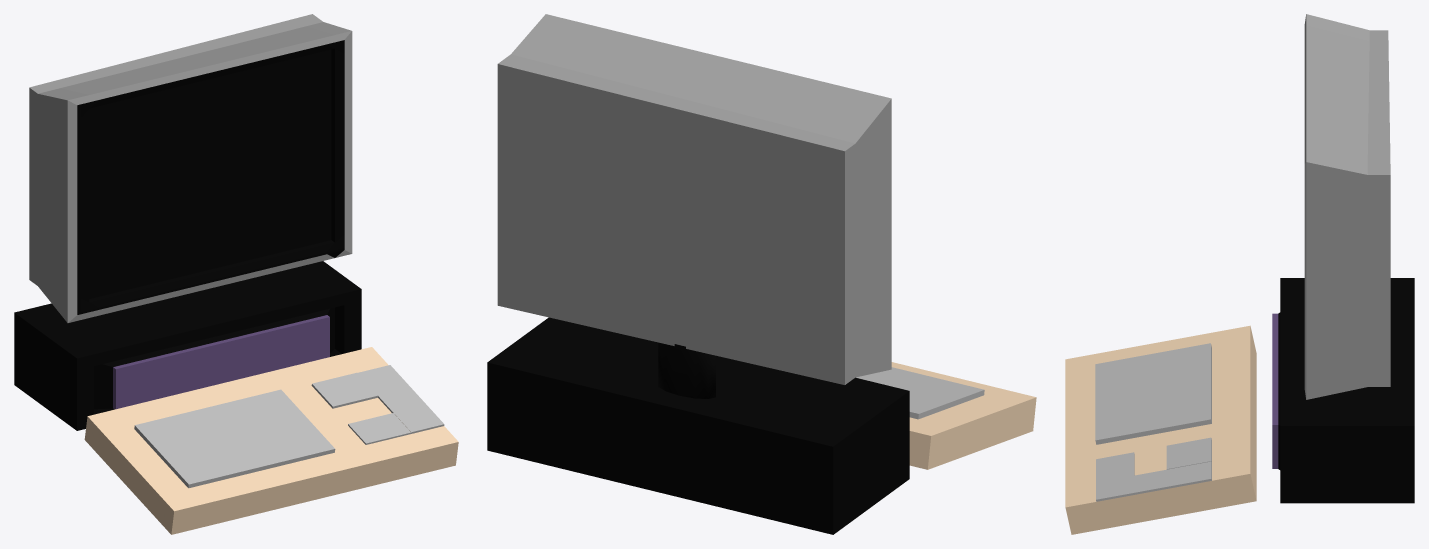
The model's file is DeskComputer.fbx.
3 renders of one model, left to right at view 1: azimuth 30°, elevation 25°; view 2: azimuth 150°, elevation 25°; view 3: azimuth 270°, elevation 25°, orthographic. The views are drawn at different scales.
Parts seen in each view (by area): view 1: Computer, Keyboard; view 2: Computer, Keyboard; view 3: Computer, Keyboard.
Boxes of the visible parts, left/top/right/bottom form: Computer: left=14, top=14, right=361, bottom=430; Keyboard: left=84, top=347, right=458, bottom=534; Computer: left=487, top=14, right=909, bottom=534; Keyboard: left=856, top=362, right=1036, bottom=469; Computer: left=1272, top=14, right=1414, bottom=503; Keyboard: left=1065, top=325, right=1256, bottom=534.
Bounding box in the file's own units: 204 × 237 × 199.
